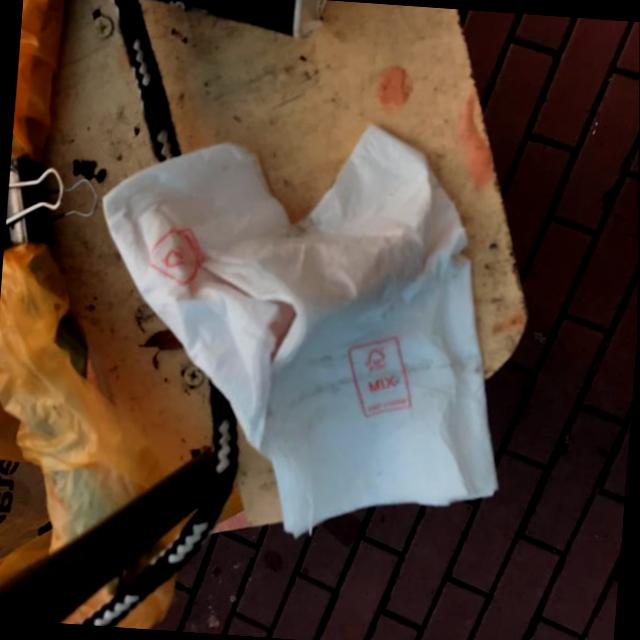Paper: (73, 103, 529, 554)
